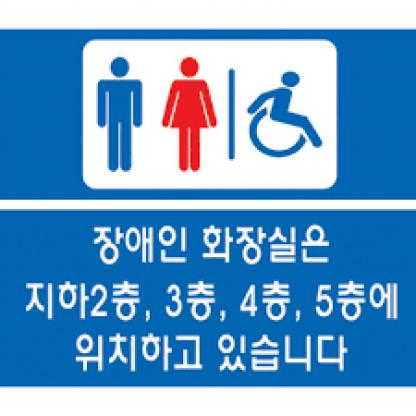toilet: (99, 49, 326, 179)
